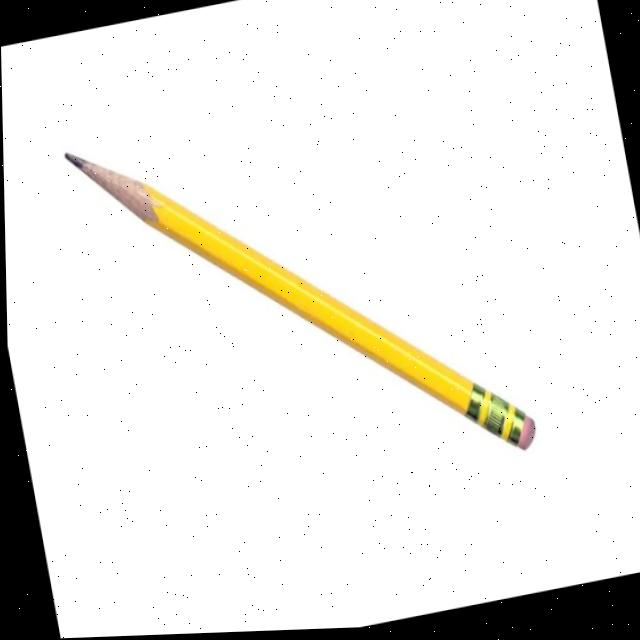pencil: (47, 129, 545, 468)
